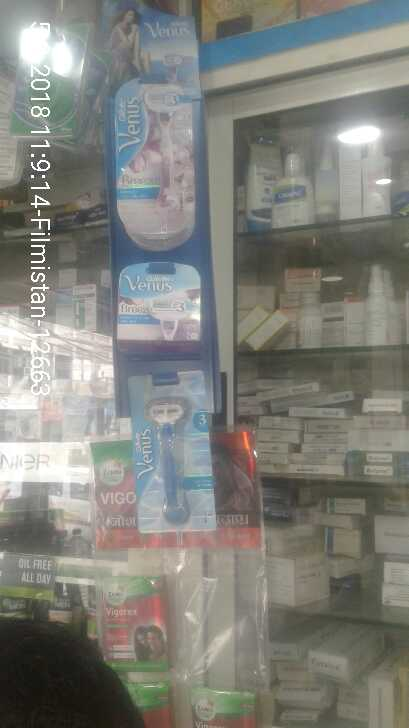venus: (107, 74, 205, 248), (131, 369, 222, 536), (114, 258, 202, 346)
